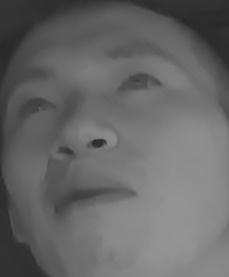eye: (111, 68, 165, 107), (12, 90, 56, 122)
mouth: (50, 175, 138, 222)
